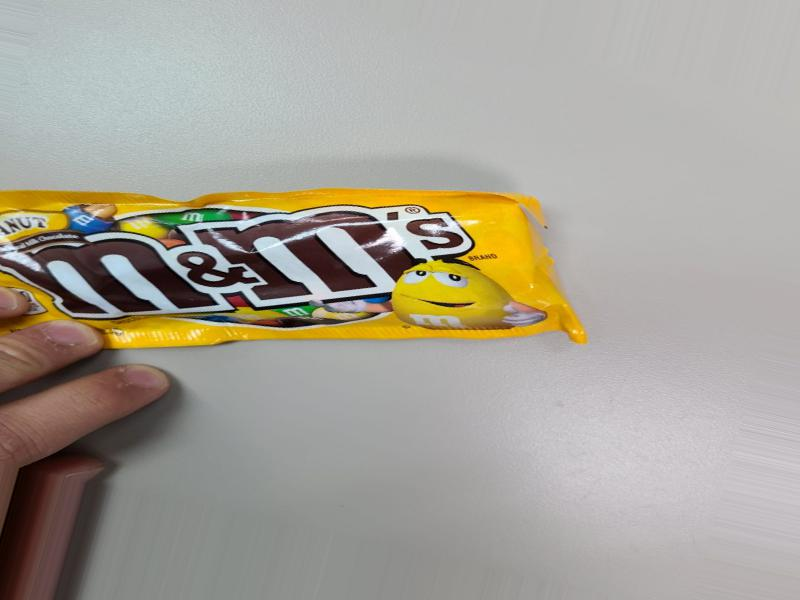m&m: (0, 186, 570, 370)
